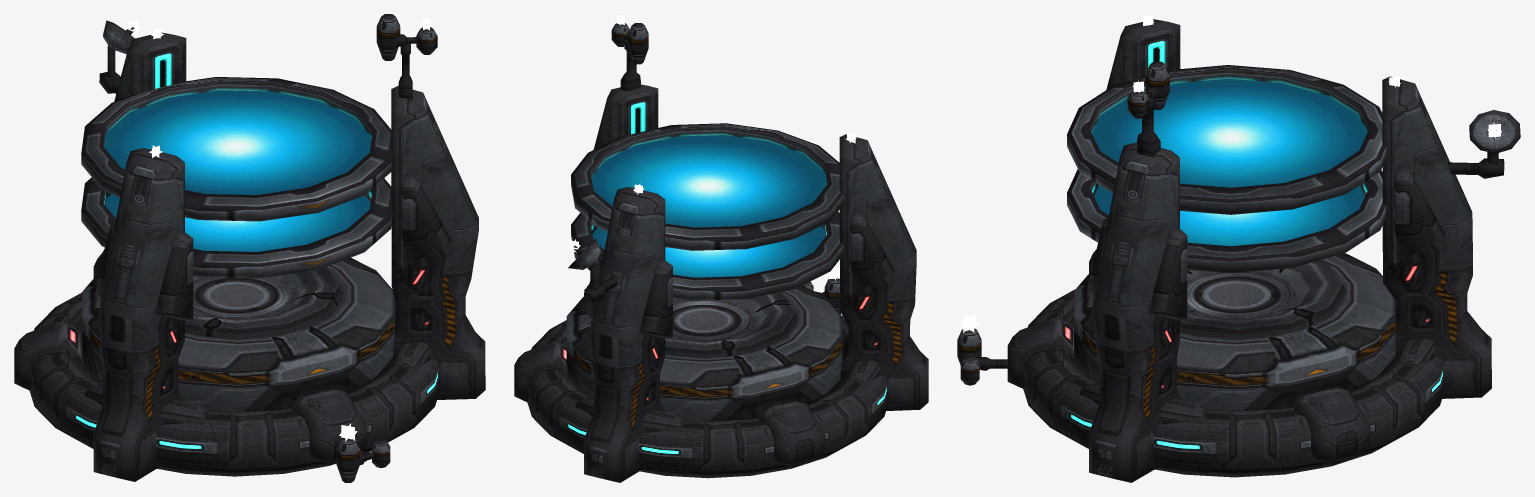
The model's file is AssemblyArray.glb.
The picture shows the model from 3 angles, left to right: view 1: azimuth 30°, elevation 25°; view 2: azimuth 150°, elevation 25°; view 3: azimuth 270°, elevation 25°; orthographic projection. The views are drawn at different scales.
Visible parts, largest first — view 1: Mesh.002, Mesh, Mesh.001; view 2: Mesh.002, Mesh, Mesh.001; view 3: Mesh.002, Mesh, Mesh.001.
Boxes of the visible parts, <box> form: Mesh.002: <box>14,14,485,482</box>; Mesh: <box>104,90,371,251</box>; Mesh.001: <box>125,18,433,441</box>; Mesh.002: <box>514,23,928,482</box>; Mesh: <box>591,135,826,277</box>; Mesh.001: <box>567,14,856,281</box>; Mesh.002: <box>957,19,1520,482</box>; Mesh: <box>1092,78,1367,246</box>; Mesh.001: <box>959,15,1501,333</box>.
Size of the model in its own units: 3.7 by 3.45 by 4.53.
Materials: 6 (5 with a texture image).
